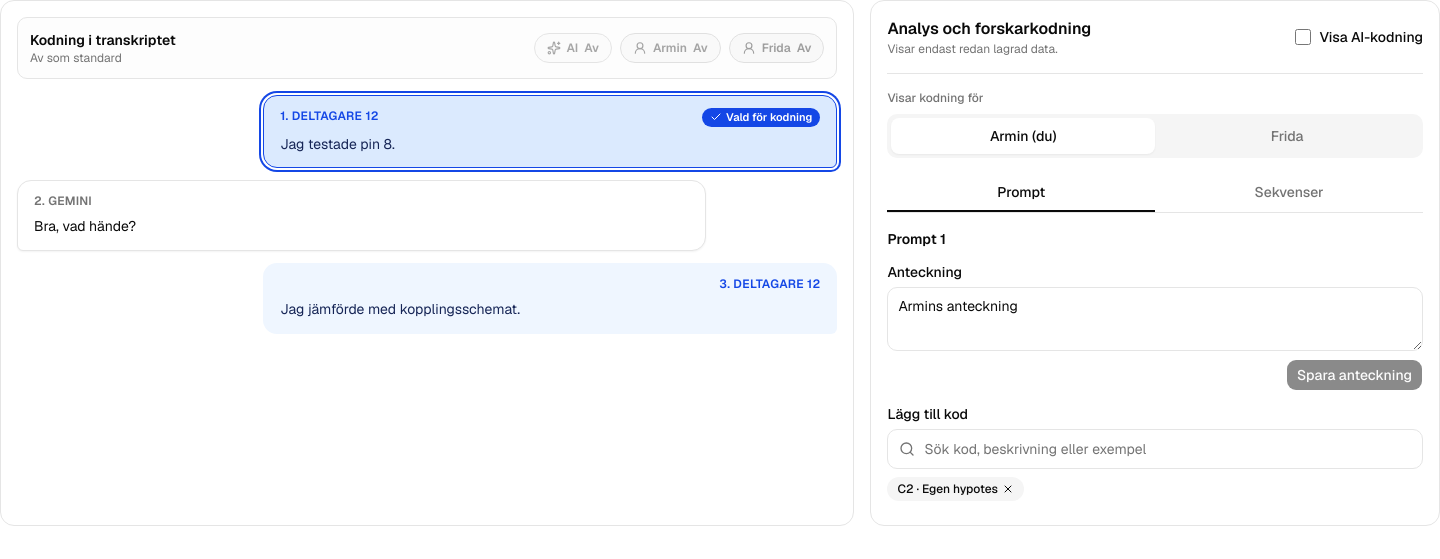
Scenario: TranscriptWorkspace › saving researcher coding › puts a removed code back when it could not be saved
Click the button named "Ta bort C2" at (1008, 489), box x1=1002 y1=483 x2=1014 y2=495
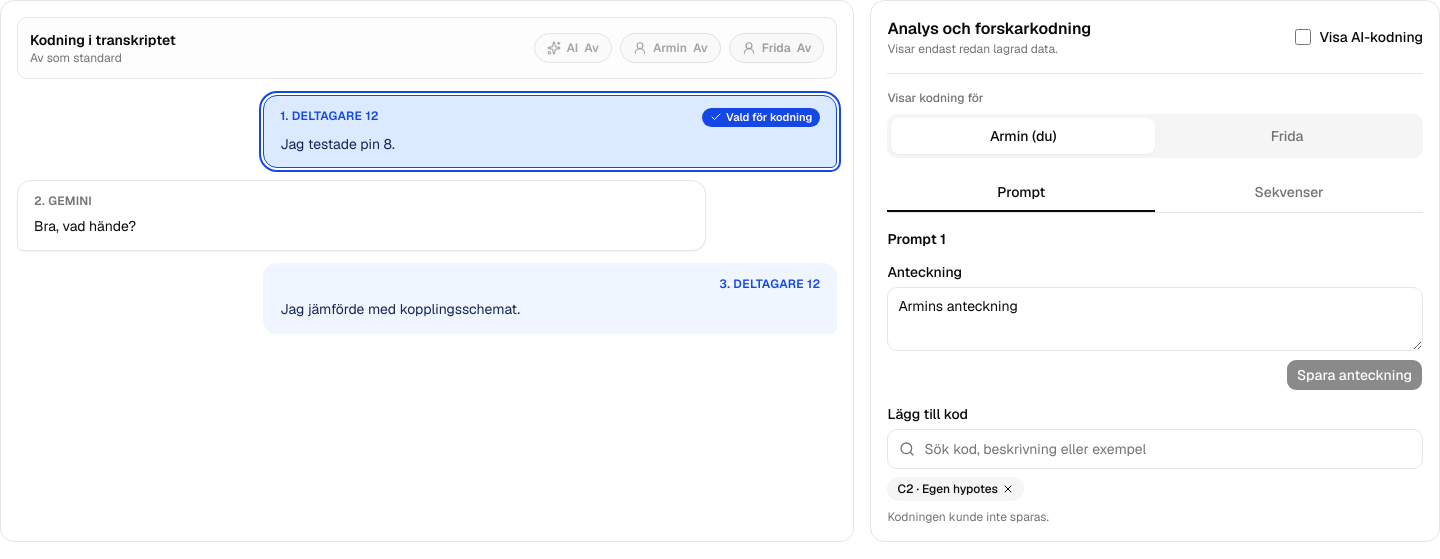
Expected: the text "Kodningen kunde inte sparas." is shown, x1=887 y1=509 x2=1049 y2=525
